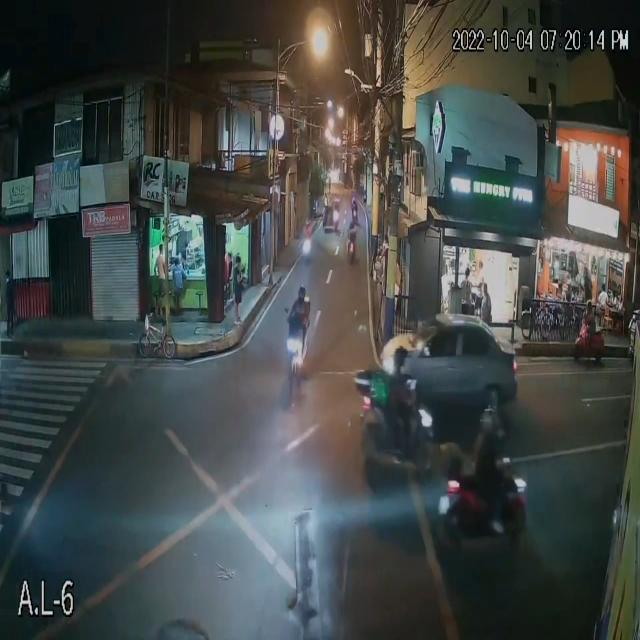Full-Faced: (390, 345, 408, 377), (293, 274, 307, 303)
